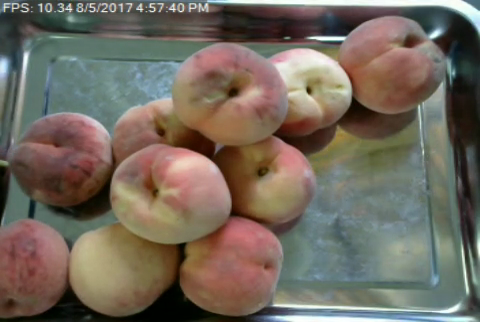Peach: (172, 41, 288, 145), (110, 146, 232, 243), (337, 14, 445, 115), (68, 220, 177, 316), (178, 217, 284, 315), (8, 110, 116, 206), (214, 133, 315, 225), (263, 48, 352, 134), (0, 220, 69, 315)
